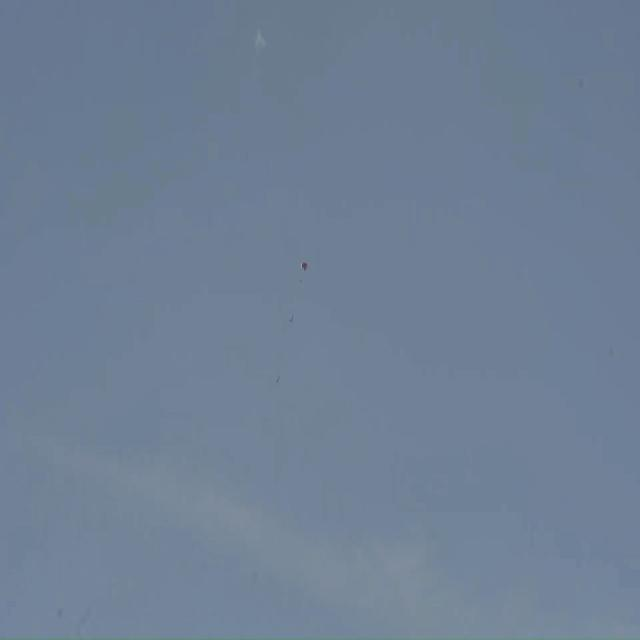Rocket: (276, 375, 280, 383)
